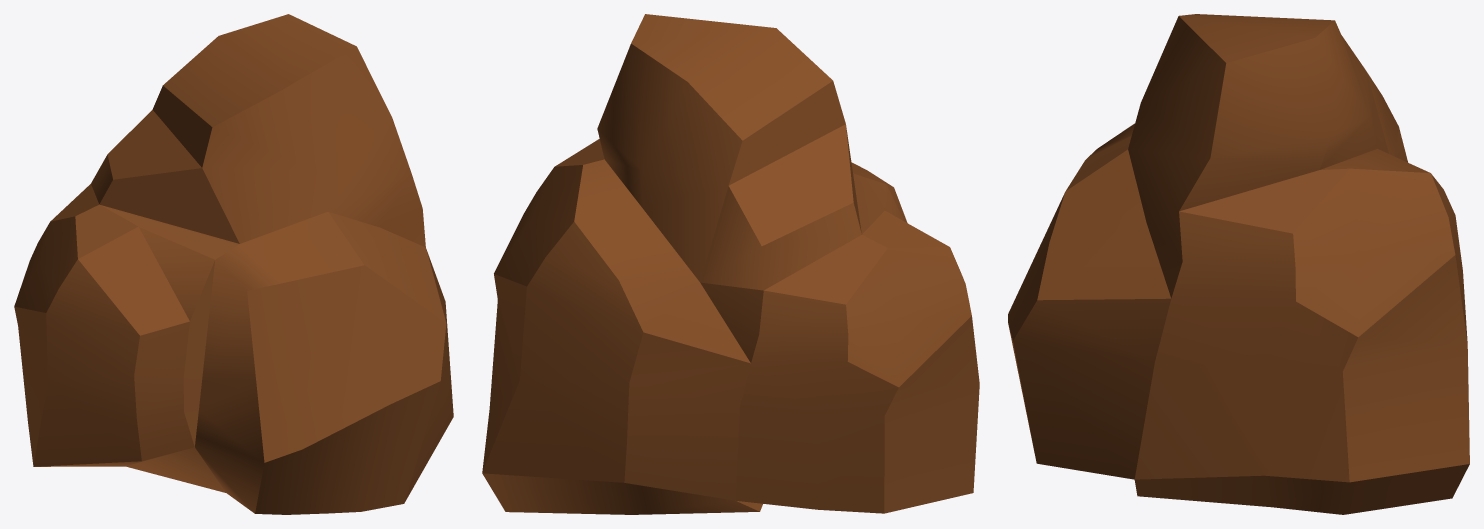
Rendered from rock.glb.
3 renders of one model, left to right at view 1: azimuth 30°, elevation 25°; view 2: azimuth 150°, elevation 25°; view 3: azimuth 270°, elevation 25°, orthographic. The views are drawn at different scales.
Visible parts, largest first — view 1: Rock_2; view 2: Rock_2; view 3: Rock_2.
Part boxes in pixels (x1=…): Rock_2: x1=14, y1=14, x2=453, y2=514; Rock_2: x1=482, y1=14, x2=979, y2=514; Rock_2: x1=1008, y1=14, x2=1469, y2=514.
Size of the model in its own units: 2.74 by 2.71 by 2.52.
Materials: 1 (1 with a texture image).
